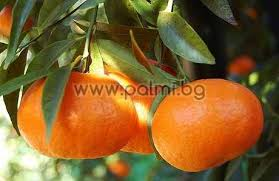orange: (13, 71, 136, 160), (148, 79, 266, 169)
